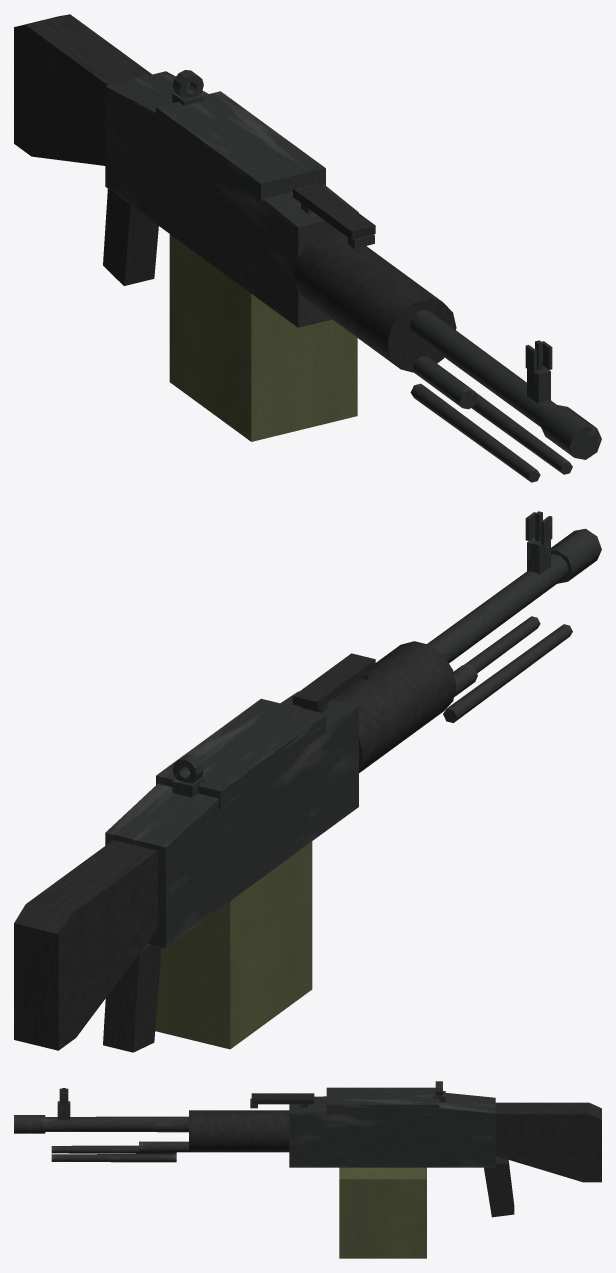
Rendered from weapon-m249.glb.
3 views of the same model, one above another, from view 1: azimuth 30°, elevation 25°; view 2: azimuth 150°, elevation 25°; view 3: azimuth 270°, elevation 25° (orthographic). The views are drawn at different scales.
Visible parts, largest first — view 1: weapon-m249; view 2: weapon-m249; view 3: weapon-m249.
Boxes of the visible parts, x1,y1,x2,y2 form: weapon-m249: [14, 14, 601, 482]; weapon-m249: [14, 511, 601, 1052]; weapon-m249: [14, 1081, 601, 1258].
Bounding box in the file's own units: 0.109 × 0.277 × 0.94.
1 material, 1 textured.
